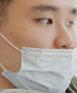mask_weared_incorrect: (1, 2, 77, 93)
